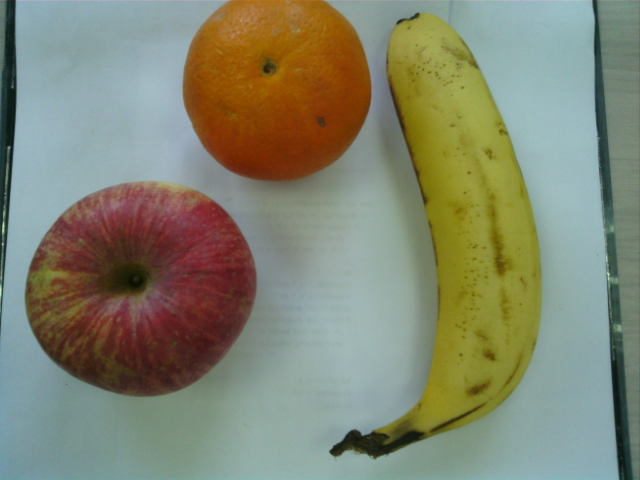normal_apple: (25, 180, 258, 397)
normal_banana: (385, 12, 547, 454)
normal_orange: (181, 1, 372, 181)
